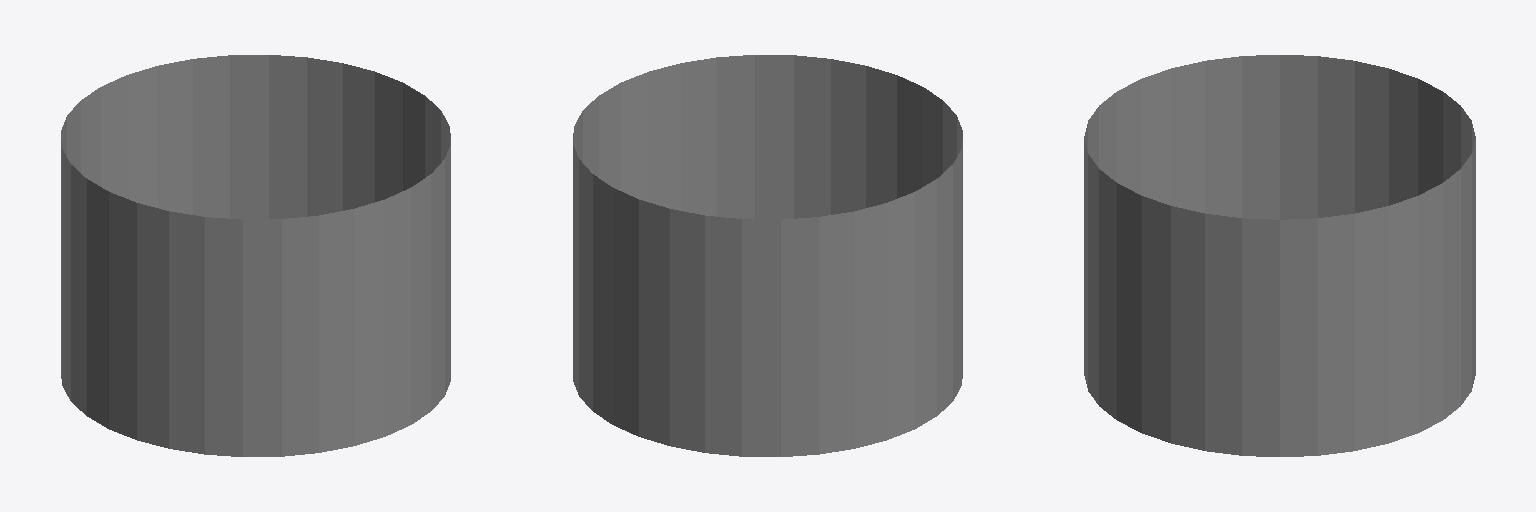
The model's file is sky.obj.
3 views of the same model, side by side, from view 1: azimuth 30°, elevation 25°; view 2: azimuth 150°, elevation 25°; view 3: azimuth 270°, elevation 25° (orthographic).
Visible parts, largest first — view 1: Front_Cylinder.003, Right_Cylinder.001, Back_Cylinder, Left_Cylinder.002; view 2: Back_Cylinder, Right_Cylinder.001, Front_Cylinder.003, Left_Cylinder.002; view 3: Left_Cylinder.002, Right_Cylinder.001, Front_Cylinder.003, Back_Cylinder.
Boxes of the visible parts, <box> form: Front_Cylinder.003: <box>205,159,444,456</box>; Right_Cylinder.001: <box>61,117,204,454</box>; Back_Cylinder: <box>67,55,306,219</box>; Left_Cylinder.002: <box>307,57,450,394</box>; Back_Cylinder: <box>579,159,818,456</box>; Right_Cylinder.001: <box>819,117,962,454</box>; Front_Cylinder.003: <box>717,55,956,219</box>; Left_Cylinder.002: <box>573,57,716,394</box>; Left_Cylinder.002: <box>1142,196,1417,456</box>; Right_Cylinder.001: <box>1142,55,1417,219</box>; Front_Cylinder.003: <box>1084,79,1141,432</box>; Back_Cylinder: <box>1418,79,1475,432</box>.
Bounding box in the file's own units: 12.37 × 8.29 × 12.37.